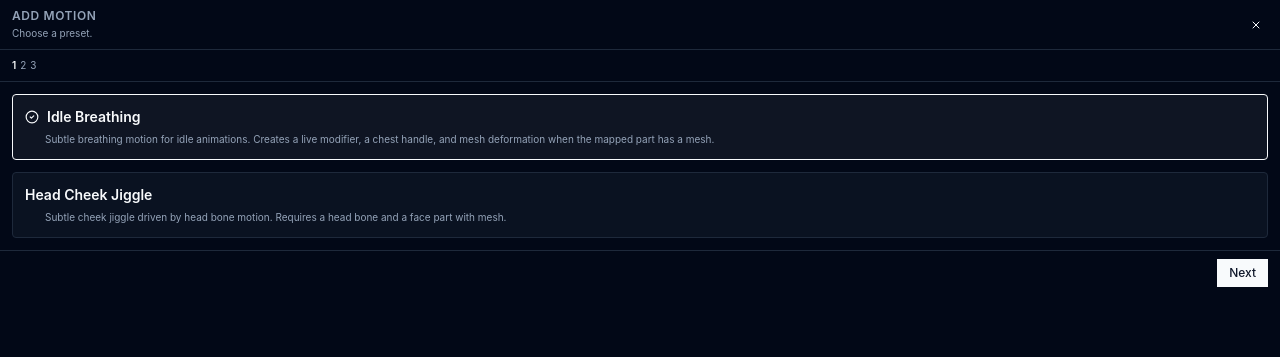
Test: AddMotionWizard › shows source bone selector when Head Cheek Jiggle is selected in wizard step 2
Click the heading "Head Cheek Jiggle" at [89, 195], box [25, 185, 152, 205]
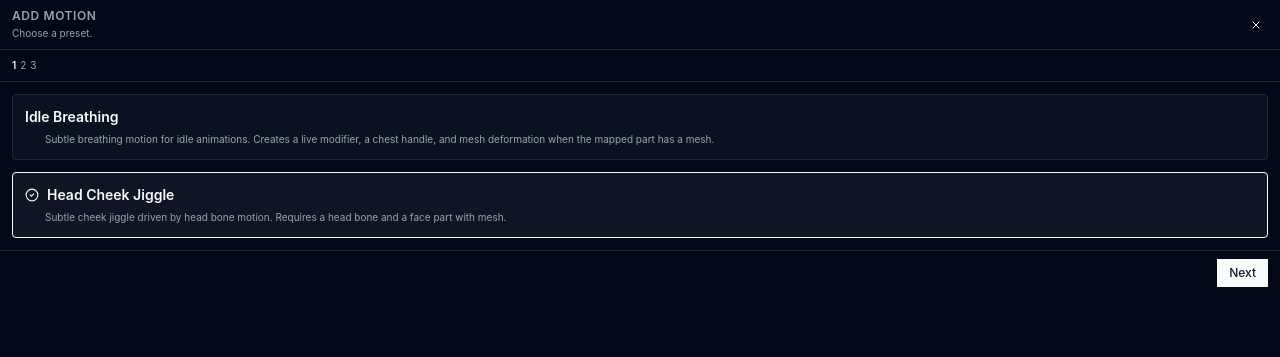
Click the button "Next" at [1243, 273], box [1217, 259, 1268, 287]
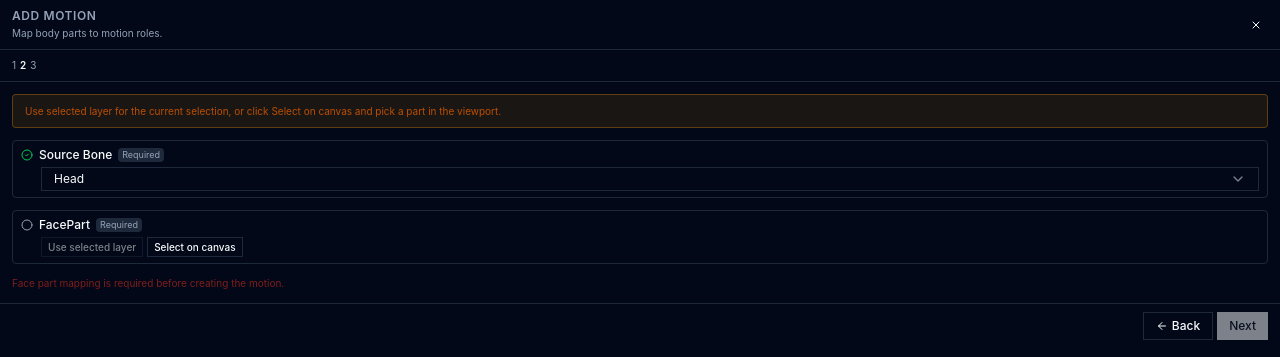
Expected: the text "Head" is shown, [54, 171, 84, 187]
Now the text "Source Bone" is shown, box [39, 147, 112, 163]
